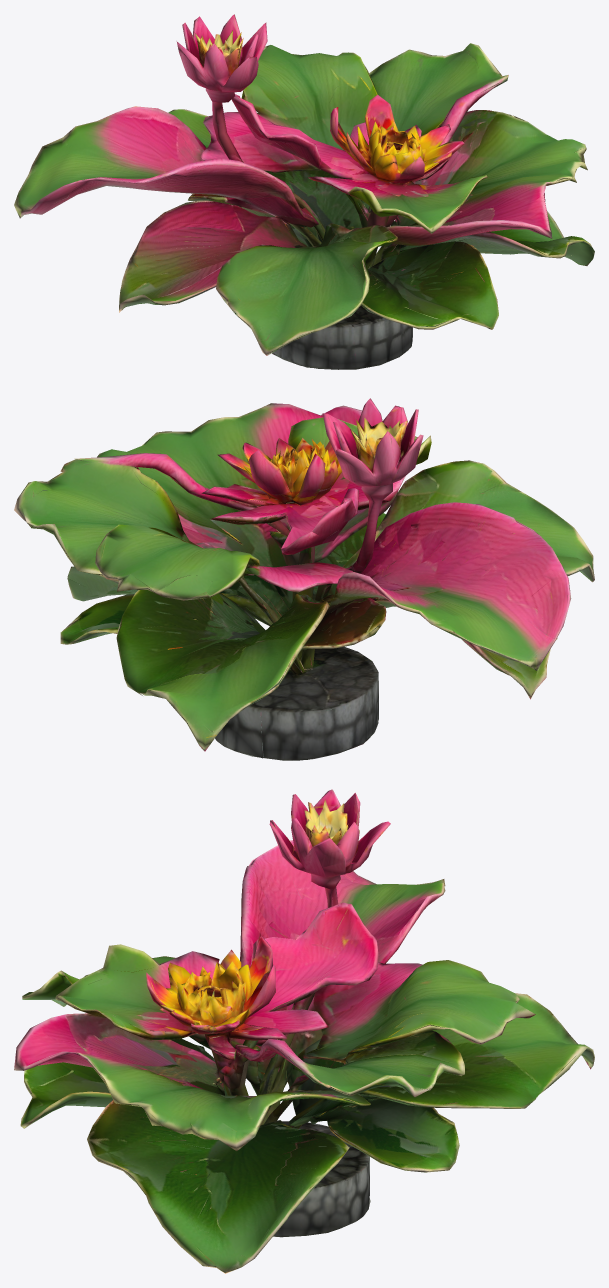
File: red_tiger_lotus.glb
The picture shows the model from 3 angles, top to bottom: view 1: azimuth 30°, elevation 25°; view 2: azimuth 150°, elevation 25°; view 3: azimuth 270°, elevation 25°; orthographic projection. The views are drawn at different scales.
Parts seen in each view (by area): view 1: red_tiger_lotus; view 2: red_tiger_lotus; view 3: red_tiger_lotus.
Part boxes in pixels (box(x1,y1,x2,y2)): red_tiger_lotus: box(14, 14, 594, 369); red_tiger_lotus: box(14, 398, 594, 760); red_tiger_lotus: box(14, 789, 594, 1273).
Size of the model in its own units: 1 by 0.6231 by 0.9441.
Materials: 1 (1 with a texture image).
